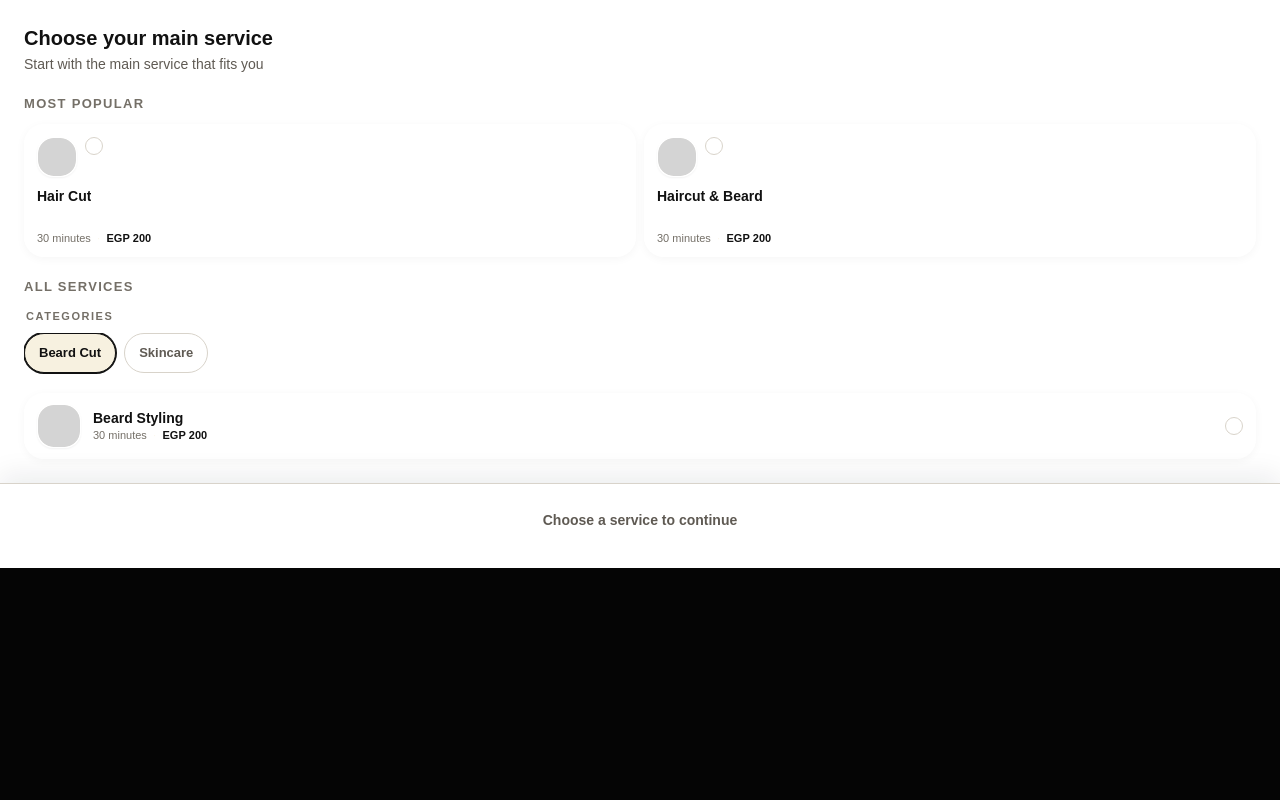
Phase 1E BookingServiceStep › shows green added-to-cart toast when a service is newly selected
This screenshot has width=1280, height=800.
Expected: the button "Choose a service to continue" is shown, left=20, top=496, right=1260, bottom=544
Click the radio button labelled "Hair Cut 30 minutes · EGP 200": (57, 156) left=24, top=124, right=636, bottom=256
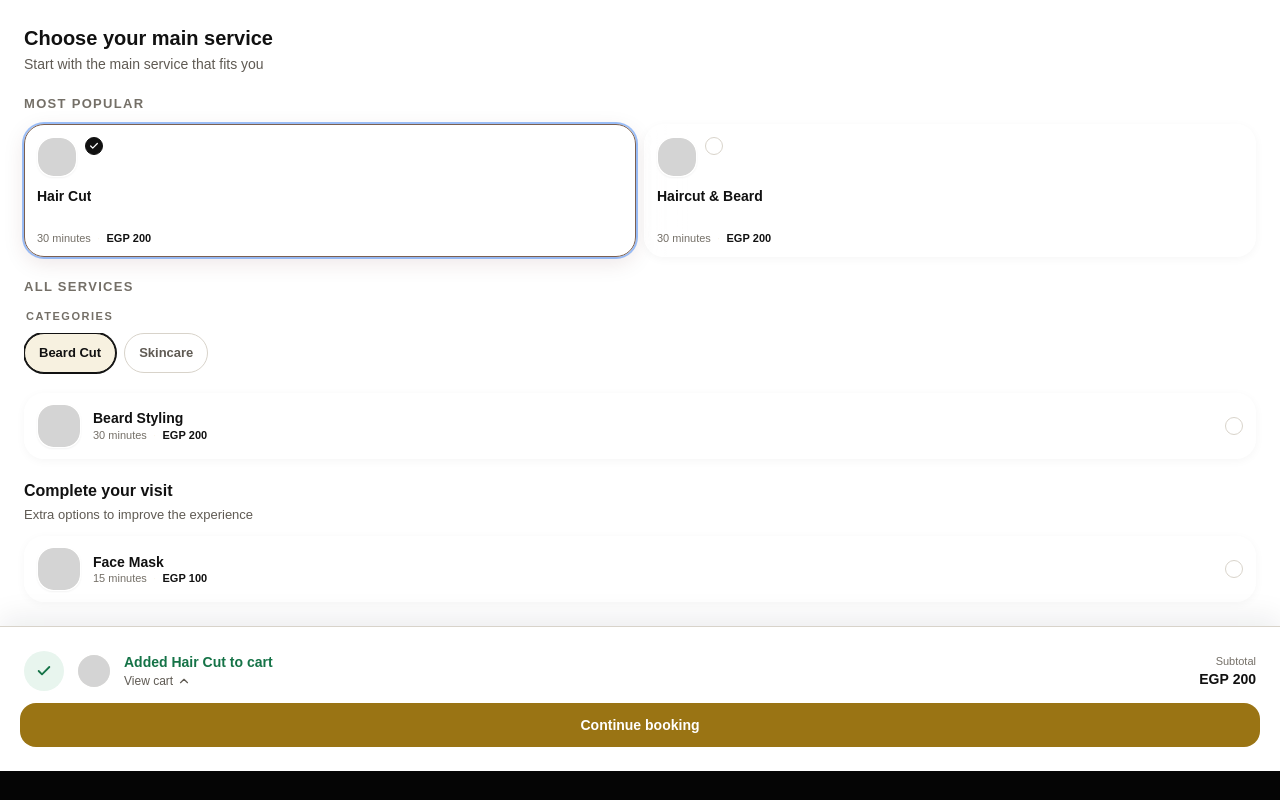
Expected: the element that starts with "Added Hair Cut to cart" is shown, left=0, top=626, right=1279, bottom=771
Now the message is shown, box left=16, top=581, right=1264, bottom=619
